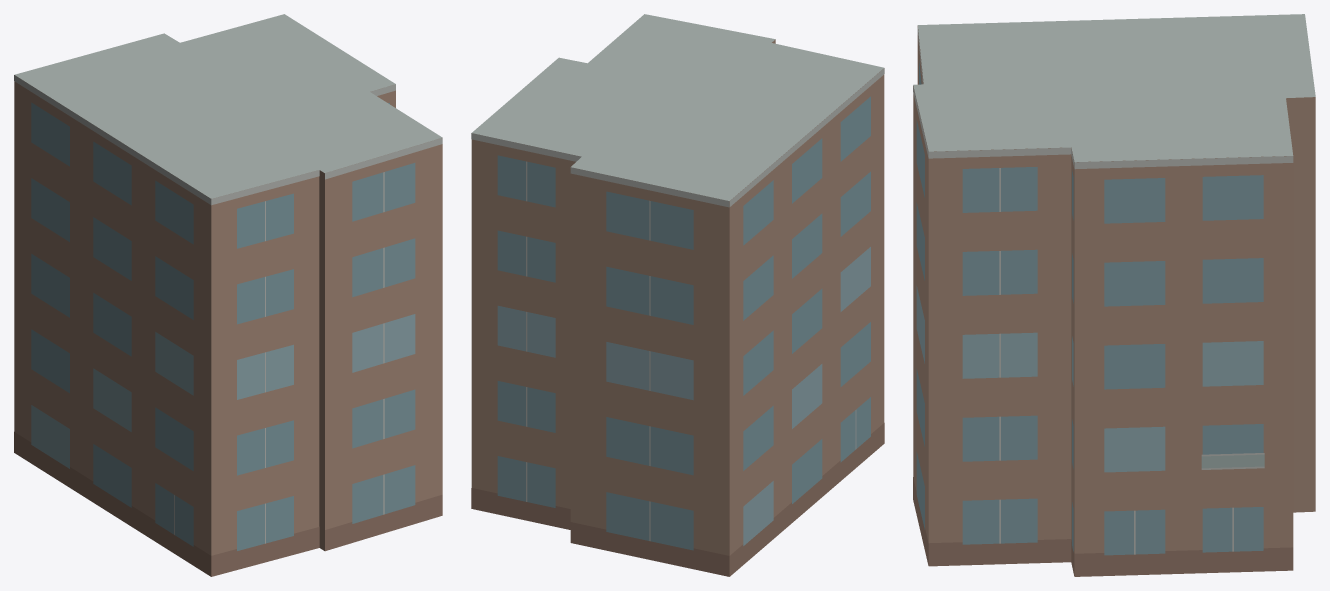
The model's file is survey-upis-32891673.glb.
The picture shows the model from 3 angles, left to right: view 1: azimuth 30°, elevation 25°; view 2: azimuth 150°, elevation 25°; view 3: azimuth 270°, elevation 25°; orthographic projection. The views are drawn at different scales.
Parts seen in each view (by area): view 1: survey-upis-32891673.tmp; view 2: survey-upis-32891673.tmp; view 3: survey-upis-32891673.tmp.
Part boxes in pixels (bbox=[...]): survey-upis-32891673.tmp: bbox=[14, 14, 442, 576]; survey-upis-32891673.tmp: bbox=[471, 14, 884, 576]; survey-upis-32891673.tmp: bbox=[913, 14, 1315, 576].
Bounding box in the file's own units: 11.08 × 14.45 × 12.73.
